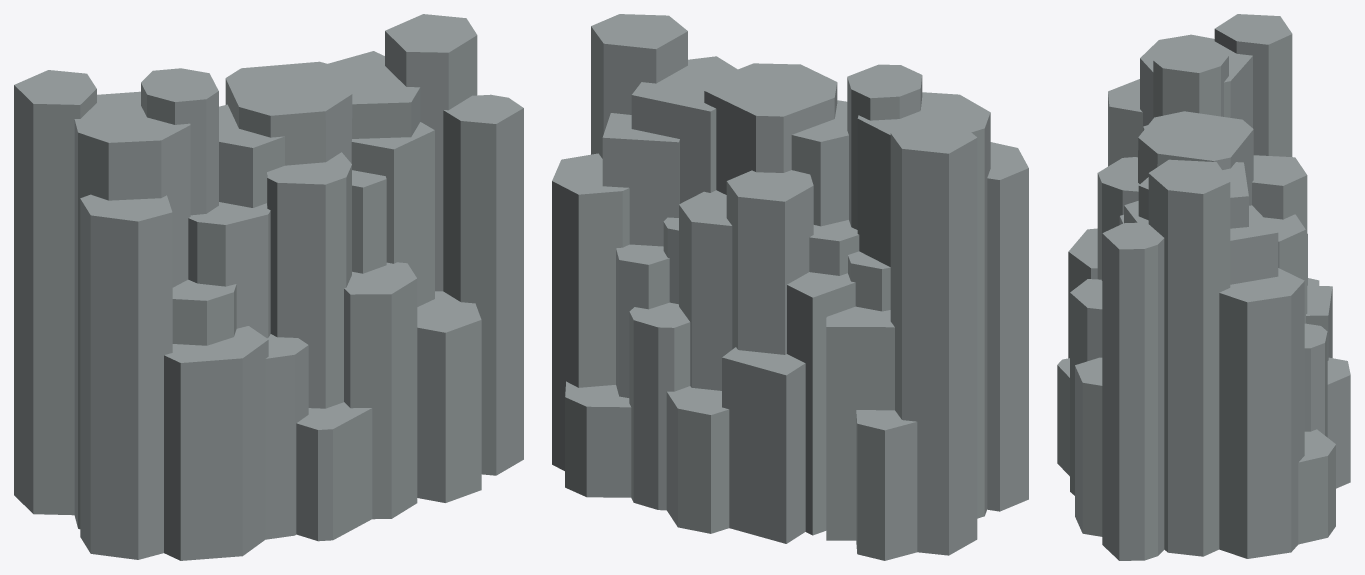
File: NHP_Rock_Wall_A1_02.fbx
The picture shows the model from 3 angles, left to right: view 1: azimuth 30°, elevation 25°; view 2: azimuth 150°, elevation 25°; view 3: azimuth 270°, elevation 25°; orthographic projection. The views are drawn at different scales.
Visible parts, largest first — view 1: NHP_Rock_Wall_A1_02; view 2: NHP_Rock_Wall_A1_02; view 3: NHP_Rock_Wall_A1_02.
Boxes of the visible parts, x1,y1,x2,y2 form: NHP_Rock_Wall_A1_02: (14,14,523,560); NHP_Rock_Wall_A1_02: (552,14,1028,560); NHP_Rock_Wall_A1_02: (1057,14,1350,560).
Size of the model in its own units: 12.42 by 11.74 by 8.4.
